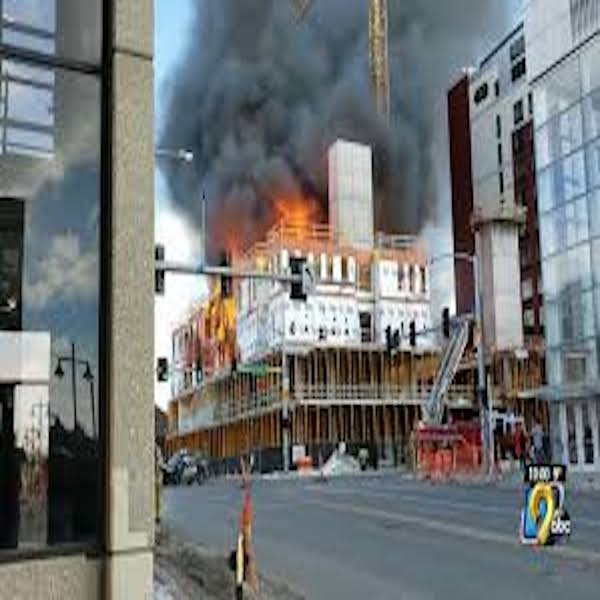fire: (247, 127, 322, 231), (204, 287, 236, 357)
